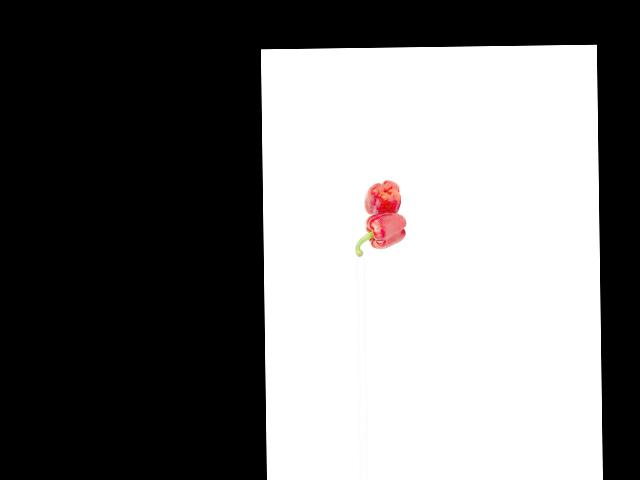bell_pepper: (362, 180, 403, 215)
